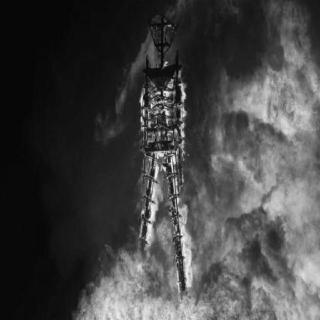Fire: (81, 6, 315, 316)
